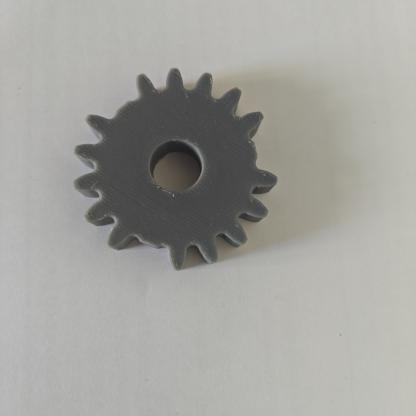defect: (84, 66, 174, 142), (96, 206, 185, 282), (233, 112, 310, 187)
gear: (51, 46, 325, 300)
